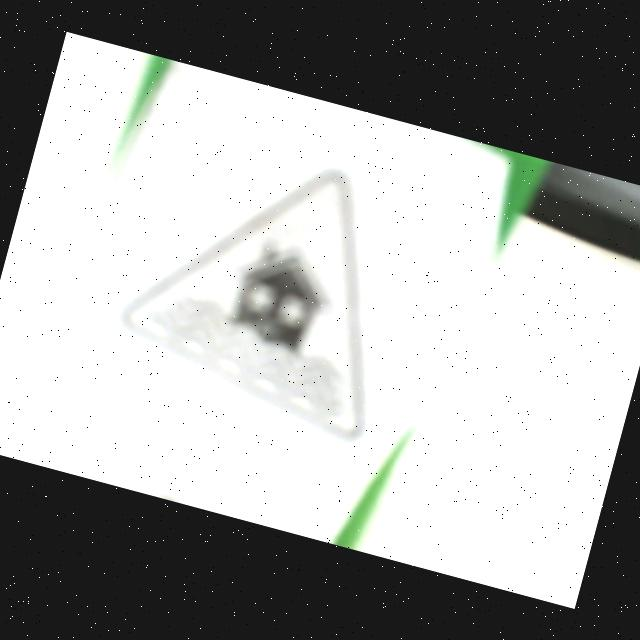Tsunami: (120, 170, 367, 443)
